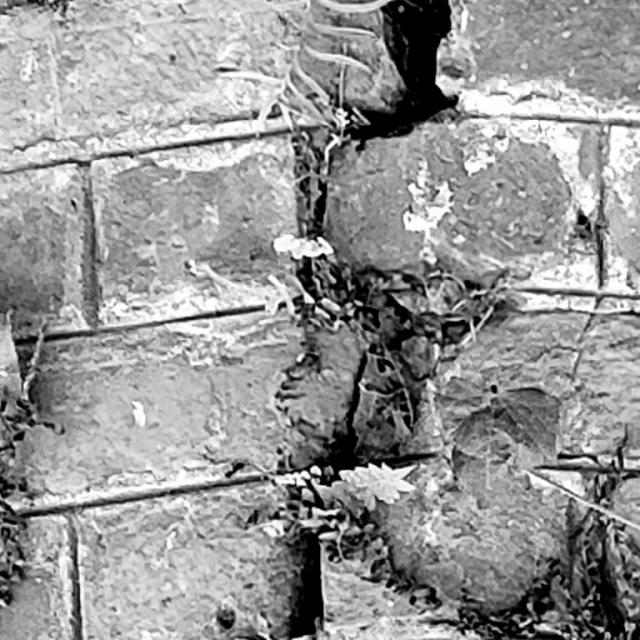crack: (288, 1, 460, 640)
